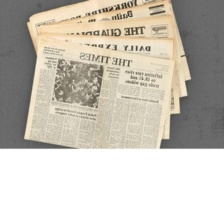news_paper: (20, 36, 179, 149), (15, 0, 194, 83), (34, 13, 191, 102)
